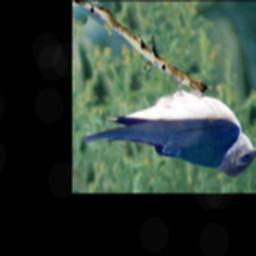Swallow: (82, 73, 256, 177)
